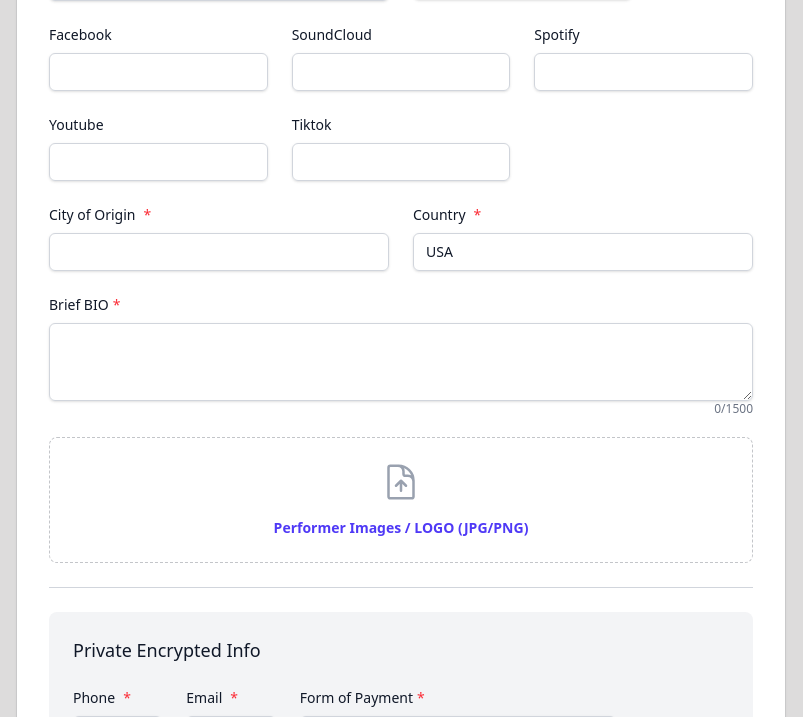
Test case: TalentForm › updates bio character counter when typing
This screenshot has width=803, height=717.
(page scrolled)
Type "Test bio content" into the text box labelled "Brief BIO*" at (401, 362), box [49, 323, 753, 401]
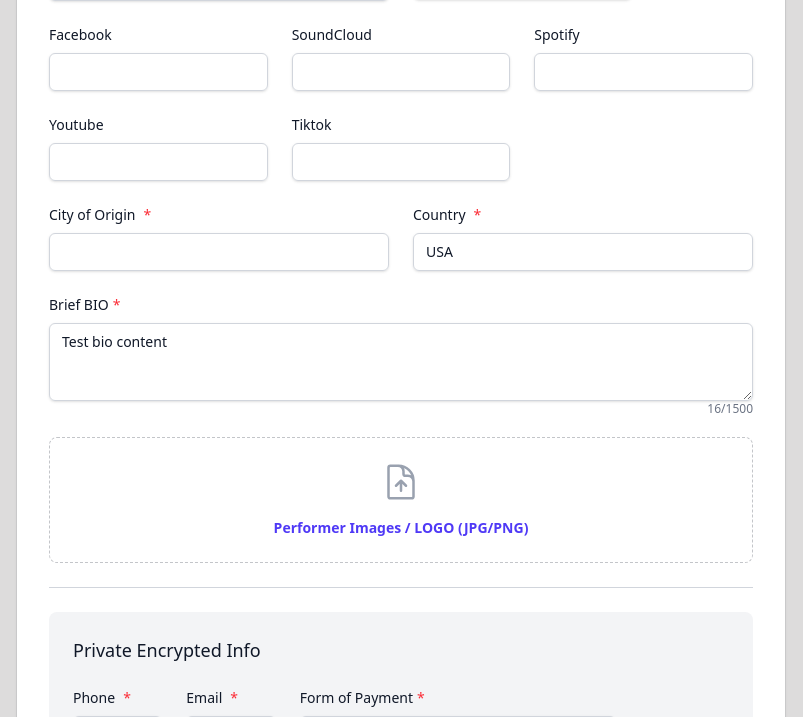
Now the text "16/1500" is shown, box [707, 400, 753, 417]
